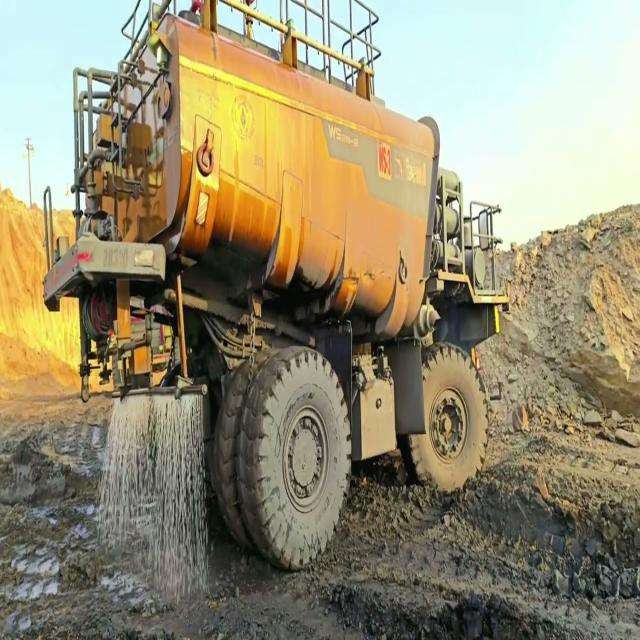dump_truck: (35, 1, 502, 567)
